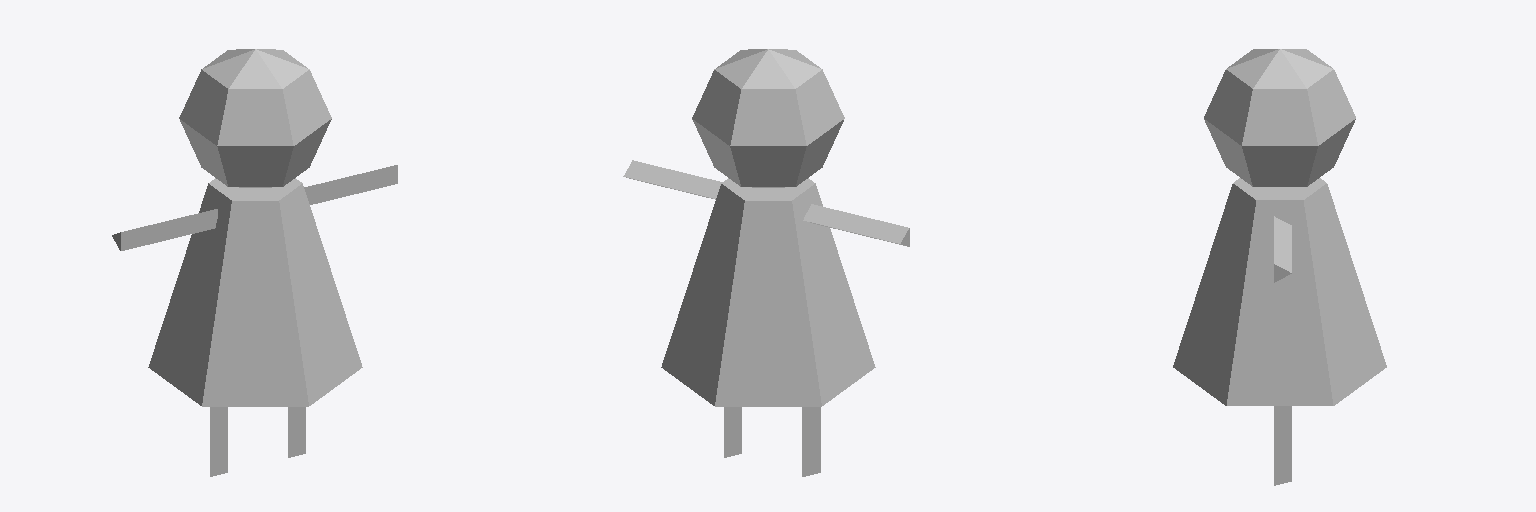
File: pedestrian.obj
3 views of the same model, side by side, from view 1: azimuth 30°, elevation 25°; view 2: azimuth 150°, elevation 25°; view 3: azimuth 270°, elevation 25° (orthographic).
Parts seen in each view (by area): view 1: body, head, arm_right, arm_left, leg_right, leg_left; view 2: body, head, arm_right, arm_left, leg_right, leg_left; view 3: body, head, leg_left, arm_left.
Boxes of the visible parts, x1,y1,x2,y2 form: body: [148, 178, 362, 406]; head: [179, 49, 331, 187]; arm_right: [112, 209, 217, 250]; arm_left: [304, 165, 397, 204]; leg_right: [210, 407, 227, 476]; leg_left: [288, 407, 305, 457]; body: [661, 178, 875, 406]; head: [692, 49, 844, 187]; arm_right: [803, 204, 909, 246]; arm_left: [623, 160, 721, 199]; leg_right: [802, 407, 820, 476]; leg_left: [724, 407, 741, 457]; body: [1173, 178, 1386, 405]; head: [1204, 49, 1355, 186]; leg_left: [1274, 406, 1291, 485]; arm_left: [1274, 216, 1291, 282].
Size of the model in its own units: 2.61 by 3.72 by 1.75.